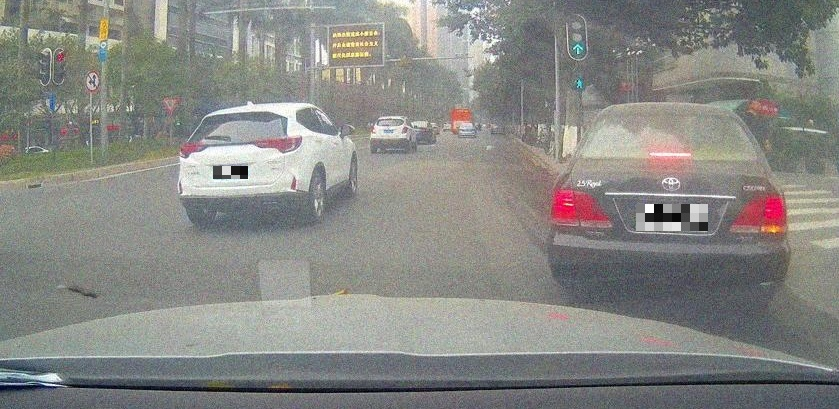L_light: (549, 189, 613, 227), (180, 142, 209, 159), (371, 127, 376, 134)
R_light: (728, 194, 787, 232), (252, 135, 302, 153), (402, 127, 408, 134)
T_light: (648, 151, 692, 158), (234, 112, 253, 117), (387, 119, 394, 121)
day-brake: (546, 102, 791, 307)
day-no: (177, 103, 303, 225), (369, 116, 409, 153)
plate_1: (213, 166, 248, 179)
plate_2: (636, 204, 708, 231)
